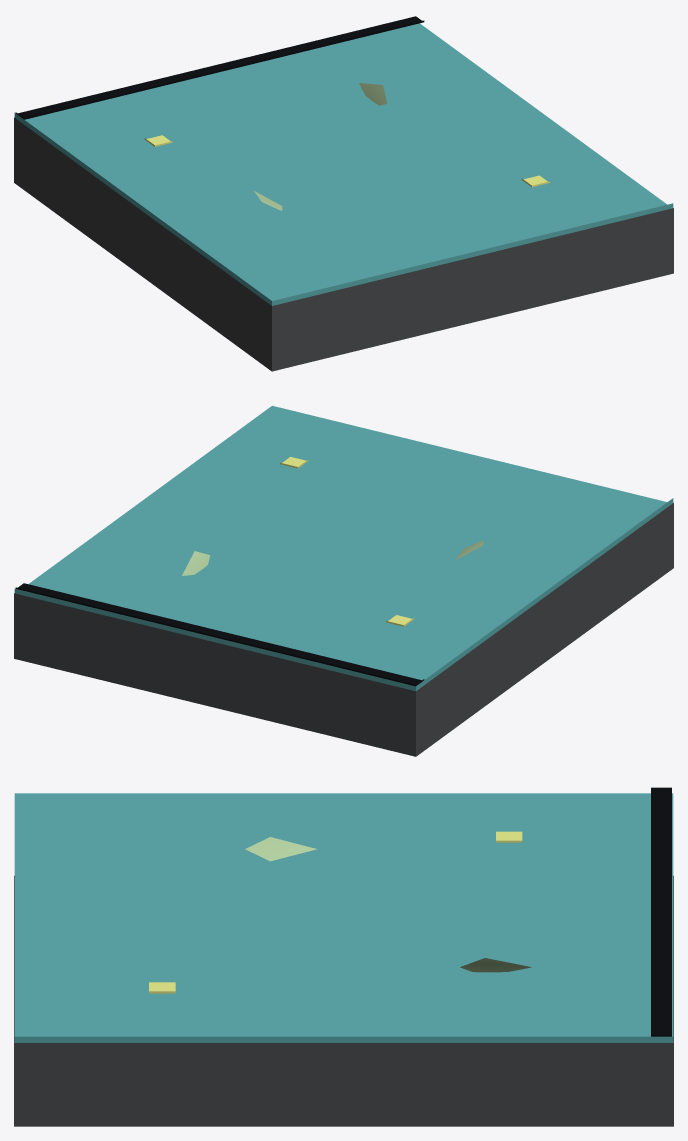
The model's file is tt_climb_mat_300_180x20.glb.
3 views of the same model, one above another, from view 1: azimuth 30°, elevation 25°; view 2: azimuth 150°, elevation 25°; view 3: azimuth 270°, elevation 25° (orthographic). The views are drawn at different scales.
Visible parts, largest first — view 1: Mat_Cover, Mat_Core, Velcro_Seam_Flap, Leaf_Print; view 2: Mat_Cover, Mat_Core, Velcro_Seam_Flap, Leaf_Print; view 3: Mat_Cover, Mat_Core, Velcro_Seam_Flap, Leaf_Print, Ball_Dots.
Boxes of the visible parts, x1,y1,x2,y2 form: Mat_Cover: [14, 23, 673, 305]; Mat_Core: [14, 117, 673, 371]; Velcro_Seam_Flap: [15, 16, 424, 119]; Leaf_Print: [254, 83, 387, 210]; Mat_Cover: [14, 405, 673, 691]; Mat_Core: [14, 503, 673, 756]; Velcro_Seam_Flap: [15, 583, 424, 686]; Leaf_Print: [182, 540, 483, 575]; Mat_Cover: [14, 793, 673, 1042]; Mat_Core: [14, 875, 673, 1126]; Velcro_Seam_Flap: [651, 787, 671, 1036]; Leaf_Print: [245, 837, 531, 972]; Ball_Dots: [149, 831, 522, 993].
Size of what is drawn, in the model's own units: 1.8 by 0.3412 by 2.
Materials: 5 (1 with a texture image).
